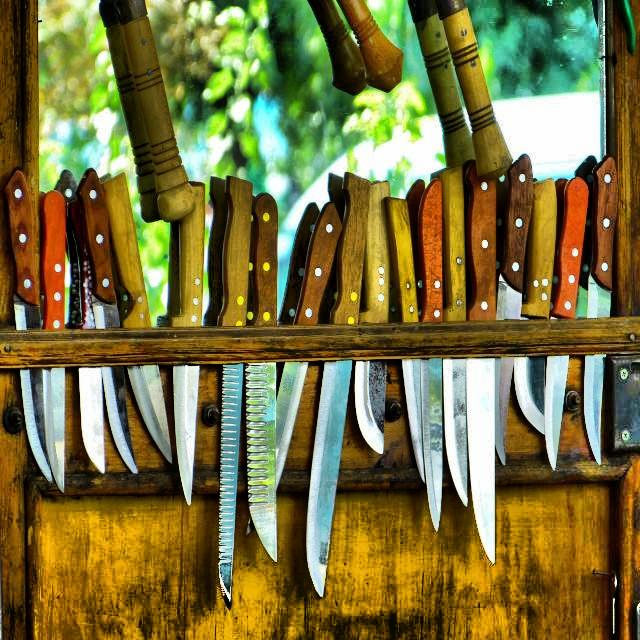knife: (303, 174, 374, 600), (100, 154, 177, 466), (271, 197, 346, 492), (79, 161, 143, 480), (214, 173, 256, 611), (0, 170, 54, 494), (543, 177, 592, 473), (380, 197, 429, 492), (352, 160, 395, 476), (247, 188, 281, 568), (470, 164, 501, 572), (34, 187, 73, 497), (493, 156, 539, 410), (587, 156, 623, 476), (75, 157, 110, 479), (419, 176, 449, 532), (513, 160, 552, 432), (443, 172, 474, 514), (170, 170, 199, 510)
